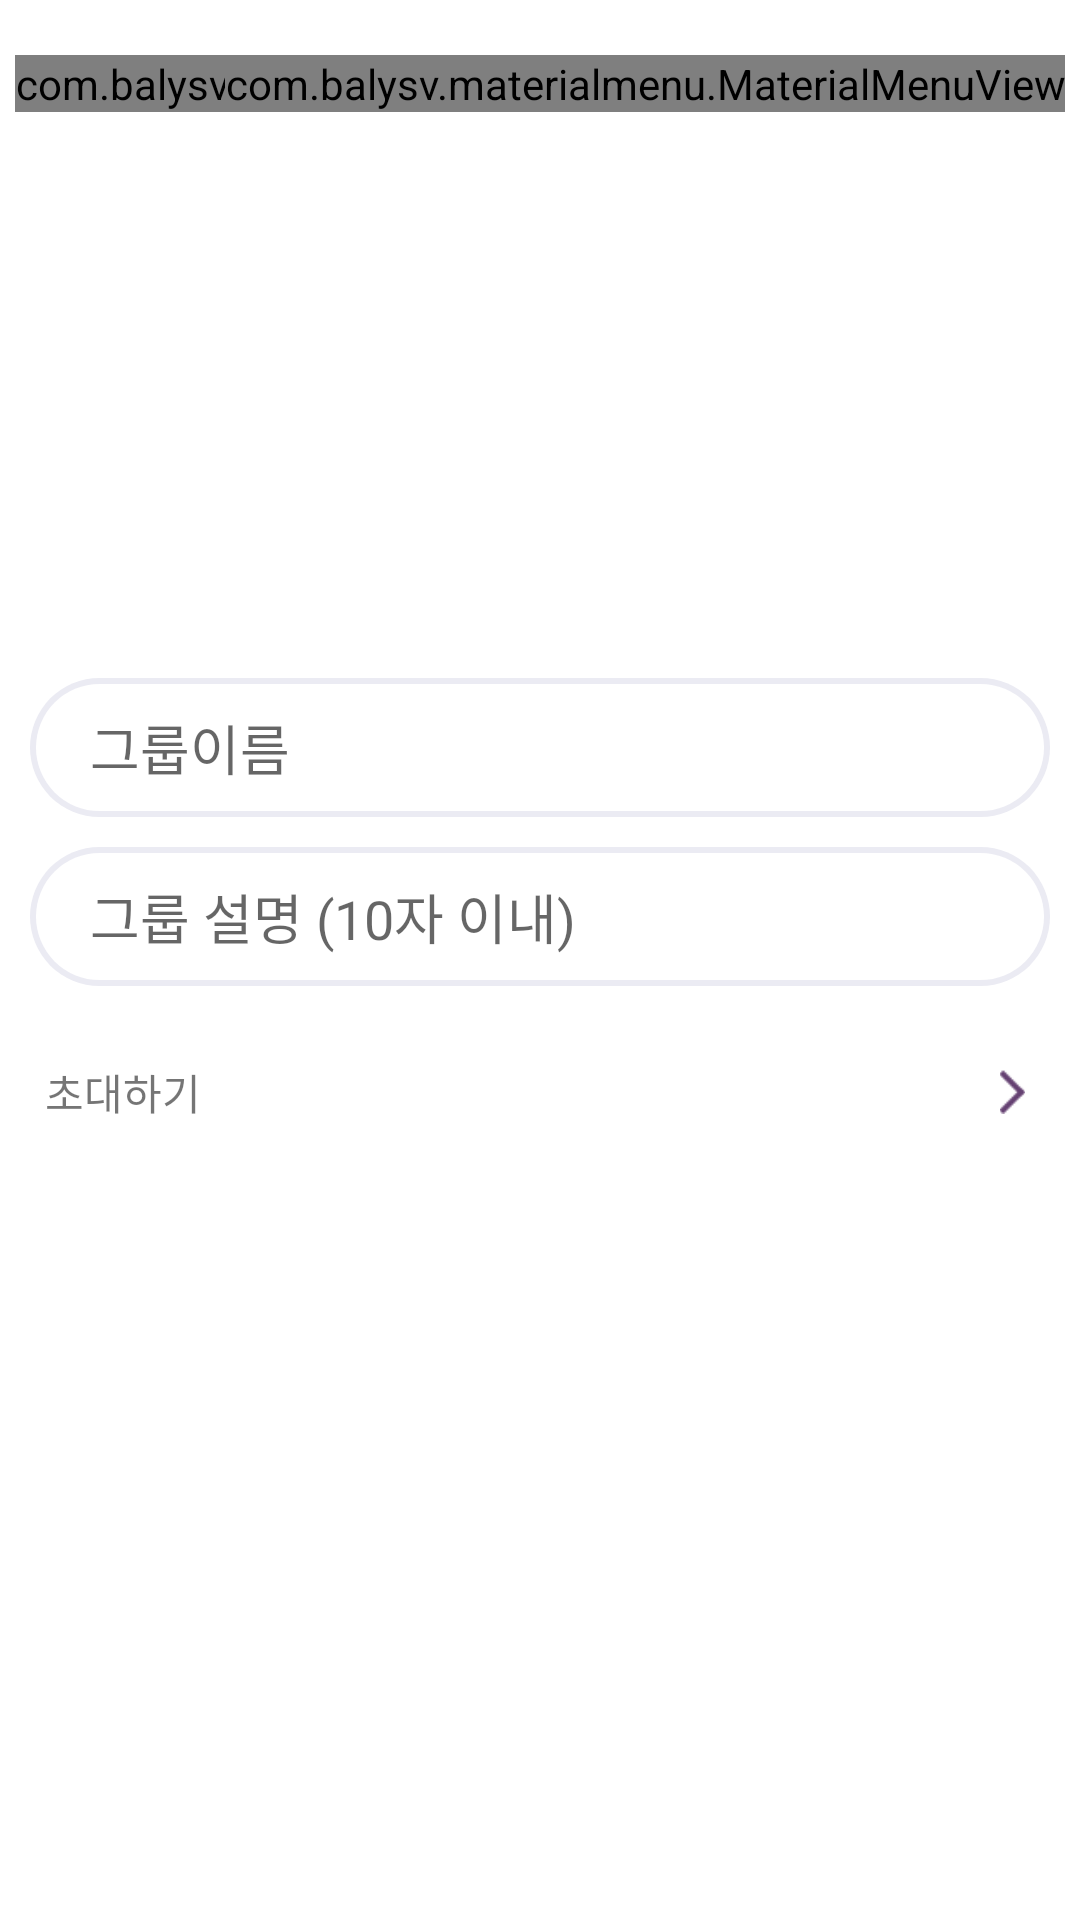

Screen size 1080 × 1920. Icon name, then its box in pixels as (x1, y1, x2, y2):
next: (1000, 1070, 1025, 1114)
